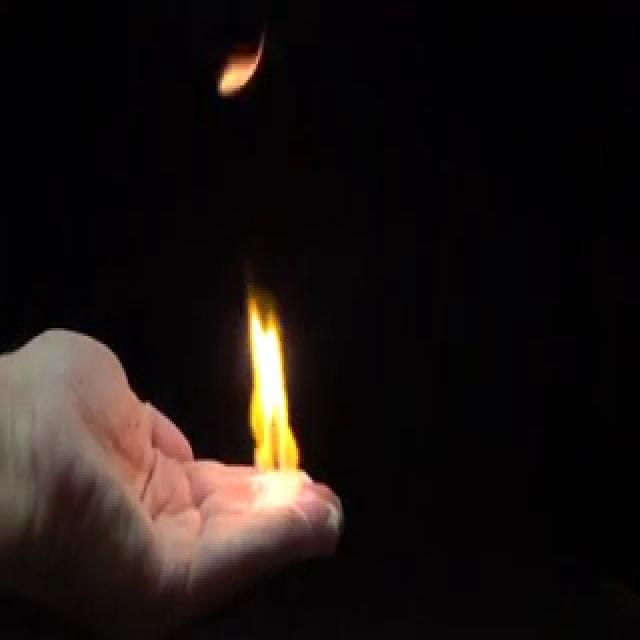fire: (239, 286, 307, 515), (208, 22, 273, 104)
